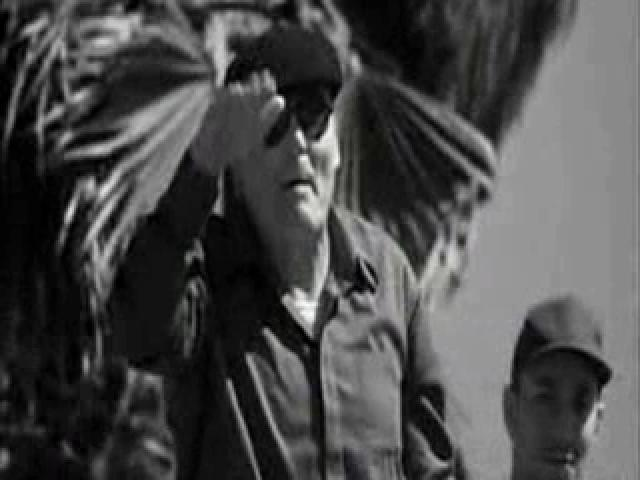T: (111, 21, 475, 477)
